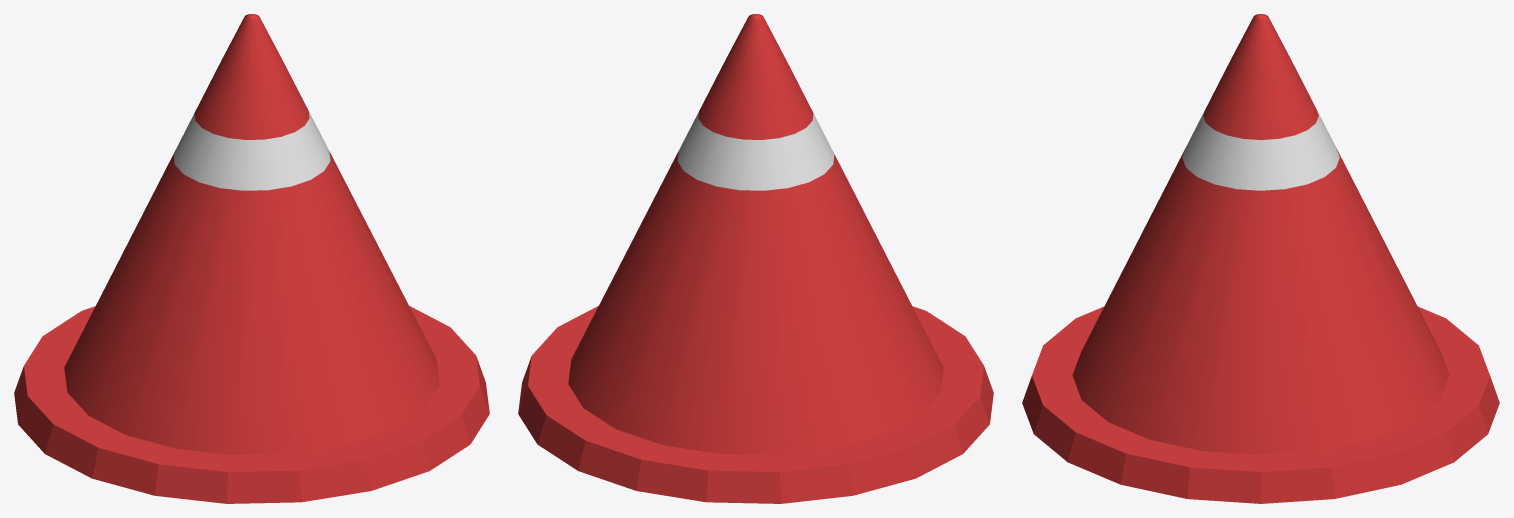
Rendered from colorcorn.fbx.
3 renders of one model, left to right at view 1: azimuth 30°, elevation 25°; view 2: azimuth 150°, elevation 25°; view 3: azimuth 270°, elevation 25°, orthographic.
Parts seen in each view (by area): view 1: pCone1; view 2: pCone1; view 3: pCone1.
Part boxes in pixels (box(x1,y1,x2,y2)): pCone1: box(14, 14, 489, 503); pCone1: box(518, 14, 993, 503); pCone1: box(1022, 14, 1499, 503).
Size of the model in its own units: 67.54 by 60.66 by 67.54.
